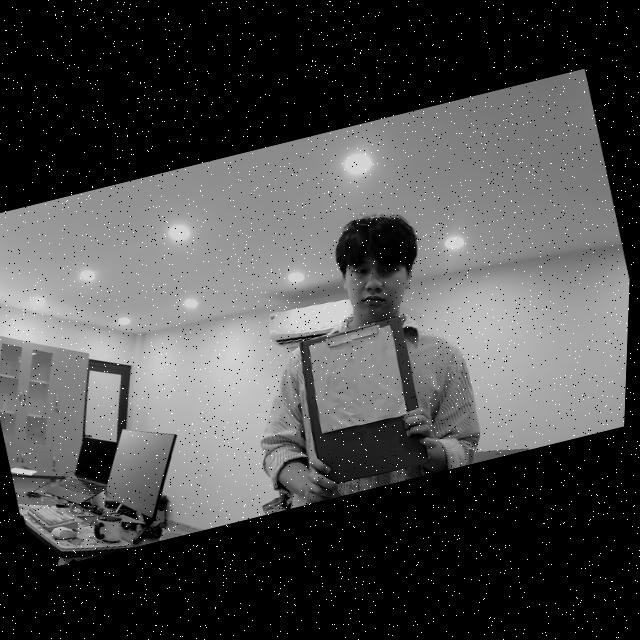face: (329, 202, 422, 325)
